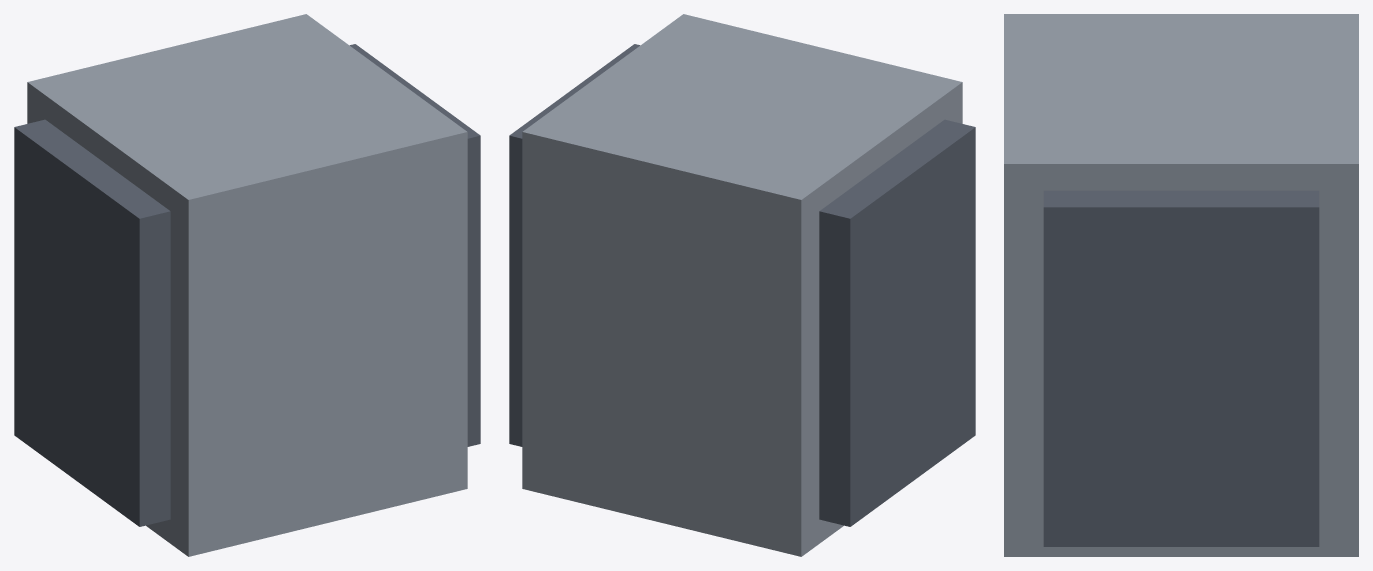
Rendered from procedural_leg_left_upper.glb.
3 views of the same model, side by side, from view 1: azimuth 30°, elevation 25°; view 2: azimuth 150°, elevation 25°; view 3: azimuth 270°, elevation 25° (orthographic). The views are drawn at different scales.
Visible parts, largest first — view 1: ThighGuard, ThighSide_L, ThighSide_R; view 2: ThighGuard, ThighSide_L, ThighSide_R; view 3: ThighSide_R, ThighGuard.
Part boxes in pixels (x1,y1,x2,y2): ThighGuard: (27, 14, 467, 556); ThighSide_L: (14, 119, 170, 526); ThighSide_R: (350, 44, 480, 446); ThighGuard: (522, 14, 962, 556); ThighSide_L: (819, 119, 975, 526); ThighSide_R: (509, 44, 639, 446); ThighSide_R: (1043, 190, 1319, 546); ThighGuard: (1004, 14, 1358, 556).
Size of the model in its own units: 0.44 by 0.44 by 0.36.
